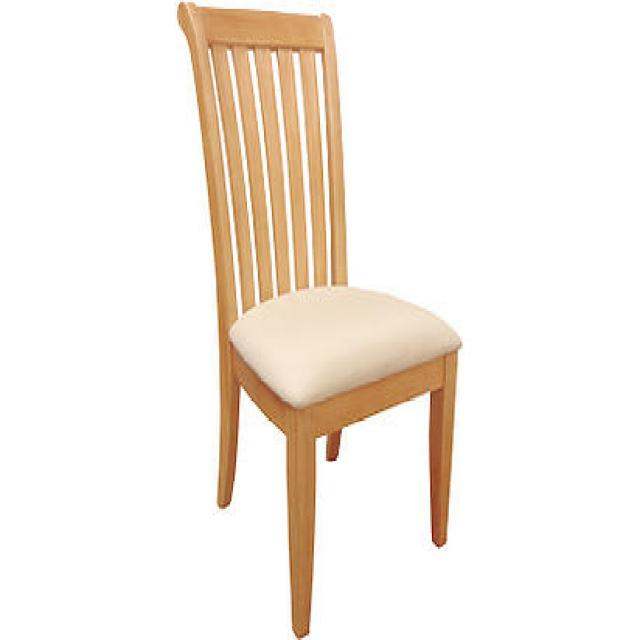Chair: (137, 0, 630, 640)
